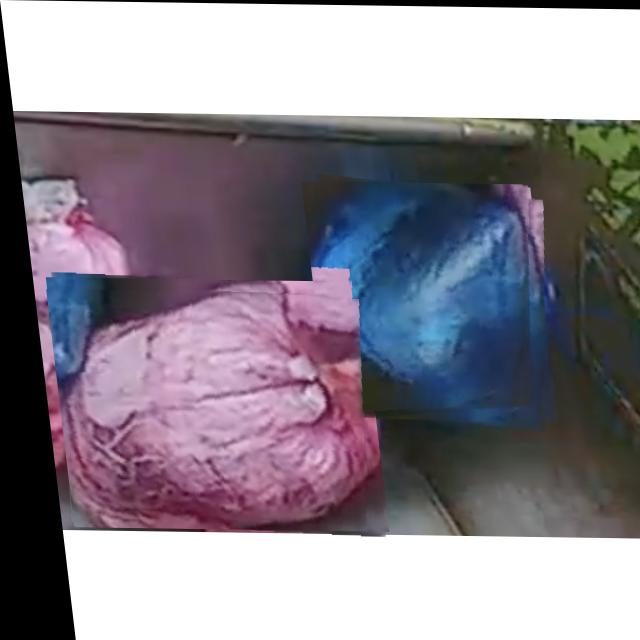other_trashbag: (50, 292, 358, 528), (307, 182, 527, 413)
